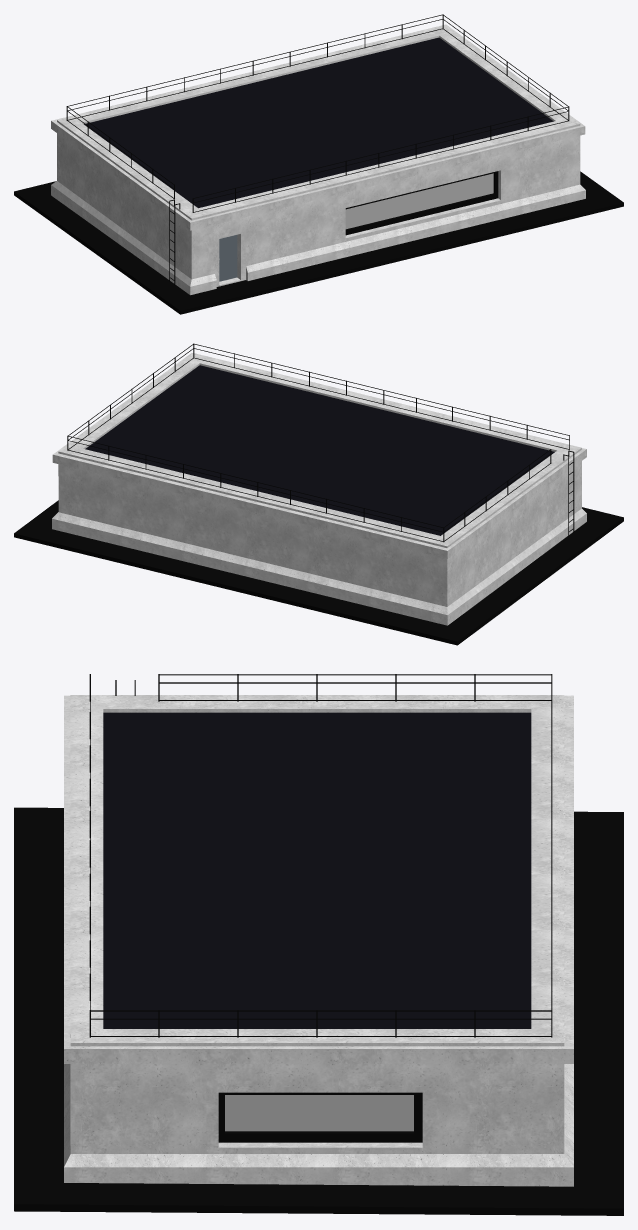
The model's file is control-post.lod0.glb.
The picture shows the model from 3 angles, top to bottom: view 1: azimuth 30°, elevation 25°; view 2: azimuth 150°, elevation 25°; view 3: azimuth 270°, elevation 25°; orthographic projection. The views are drawn at different scales.
Visible parts, largest first — view 1: Inner_Floor_Floor_1_0, Inner_Floor_Outer_Walls_0, Railing_Railing_0, window_1_window_0; view 2: Inner_Floor_Outer_Walls_0, Inner_Floor_Floor_1_0, Railing_Railing_0; view 3: Inner_Floor_Floor_1_0, Inner_Floor_Outer_Walls_0, Railing_Railing_0, window_1_window_0.
Part boxes in pixels (x1,y1,x2,y2): Inner_Floor_Floor_1_0: (14, 37, 623, 314); Inner_Floor_Outer_Walls_0: (51, 24, 585, 295); Railing_Railing_0: (66, 14, 569, 285); window_1_window_0: (345, 171, 498, 235); Inner_Floor_Outer_Walls_0: (52, 353, 586, 625); Inner_Floor_Floor_1_0: (14, 365, 623, 645); Railing_Railing_0: (67, 343, 574, 542); Inner_Floor_Floor_1_0: (14, 712, 623, 1215); Inner_Floor_Outer_Walls_0: (64, 695, 573, 1186); Railing_Railing_0: (89, 674, 552, 1037); window_1_window_0: (218, 1092, 422, 1142).
Bounding box in the file's own units: 19.9 × 4.09 × 12.93.
6 materials, 3 textured.
